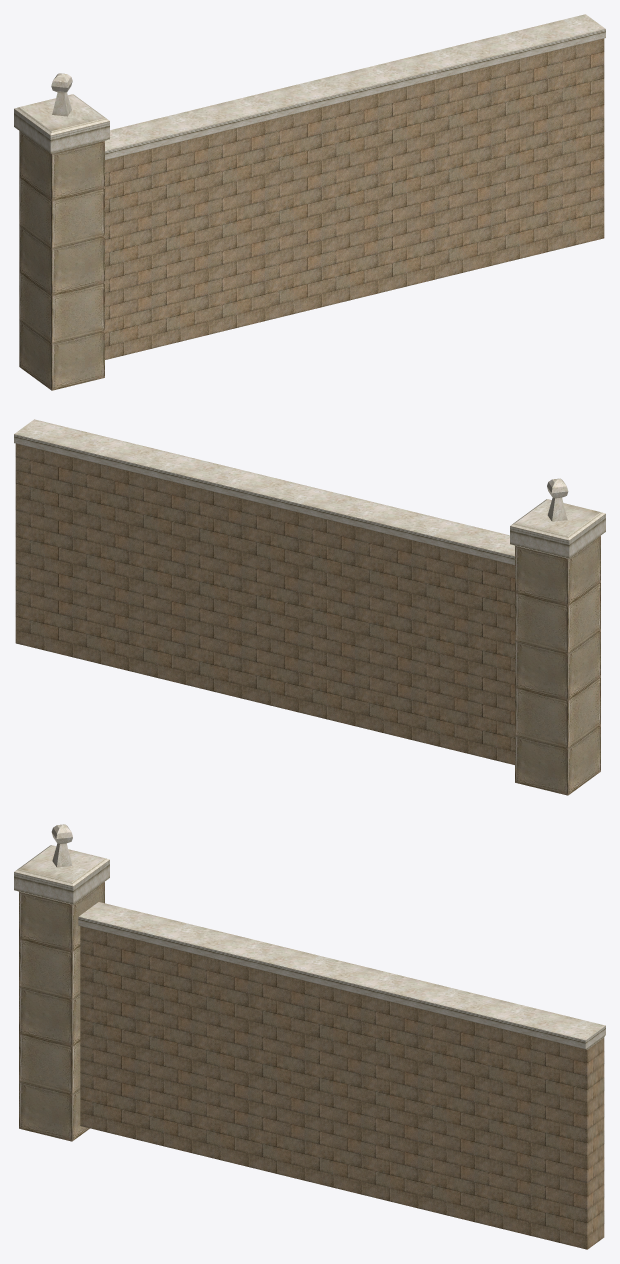
The model's file is thm_nboo_thed_imprv_wall_s01_l1.fbx.
3 renders of one model, top to bottom at view 1: azimuth 30°, elevation 25°; view 2: azimuth 150°, elevation 25°; view 3: azimuth 330°, elevation 25°, orthographic.
Visible parts, largest first — view 1: mesh_node; view 2: mesh_node; view 3: mesh_node.
Part boxes in pixels (x1,y1,x2,y2): mesh_node: (14,14,605,390); mesh_node: (14,419,605,795); mesh_node: (14,824,605,1249).
Bounding box in the file's own units: 21.58 × 10.91 × 2.43.
Materials: 1 (1 with a texture image).
